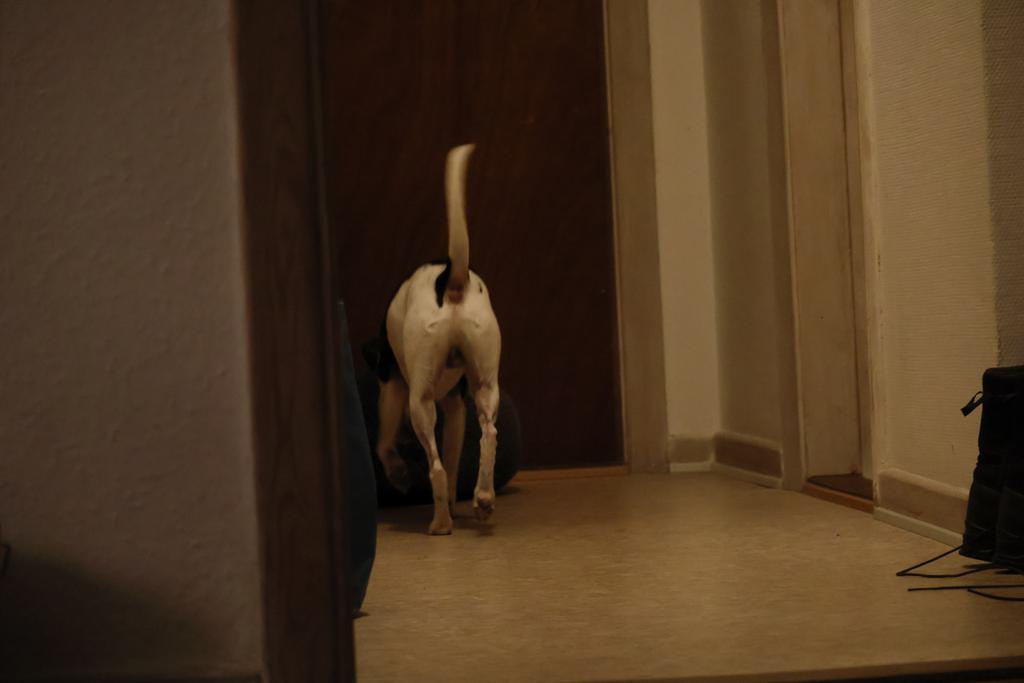Dog: (350, 127, 532, 557)
